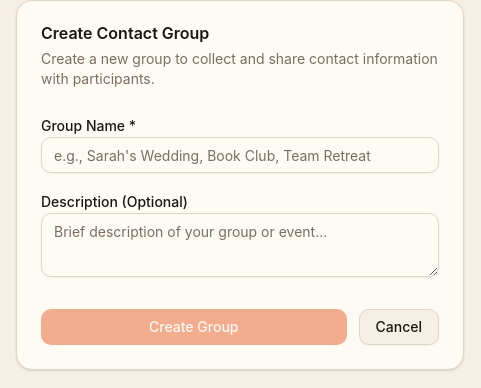
Test: GroupCreationForm › disables cancel button during submission
Type "Test Group" into the field labelled "Group Name *" at (240, 155), box [41,137,439,173]
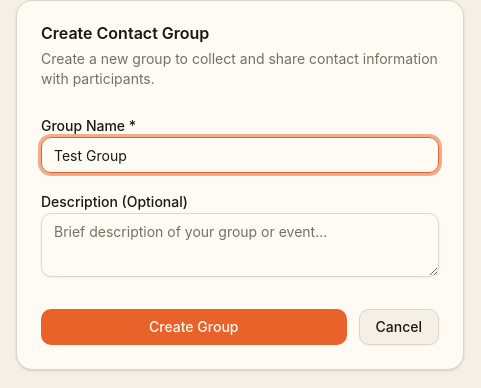
Click the button "Create Group" at (194, 327), box [41,309,346,345]
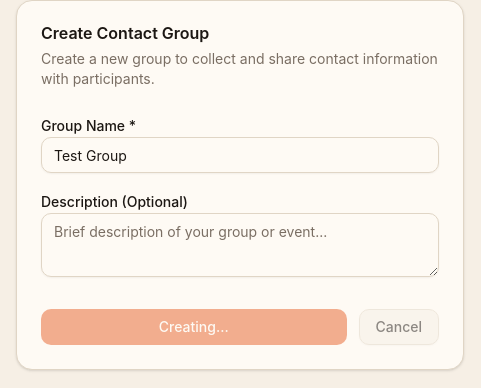
Expected: the button "Cancel" is disabled, [358,309,439,345]
